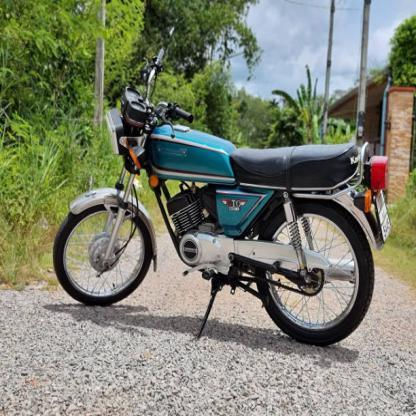Motorcycle: (49, 36, 397, 358)
